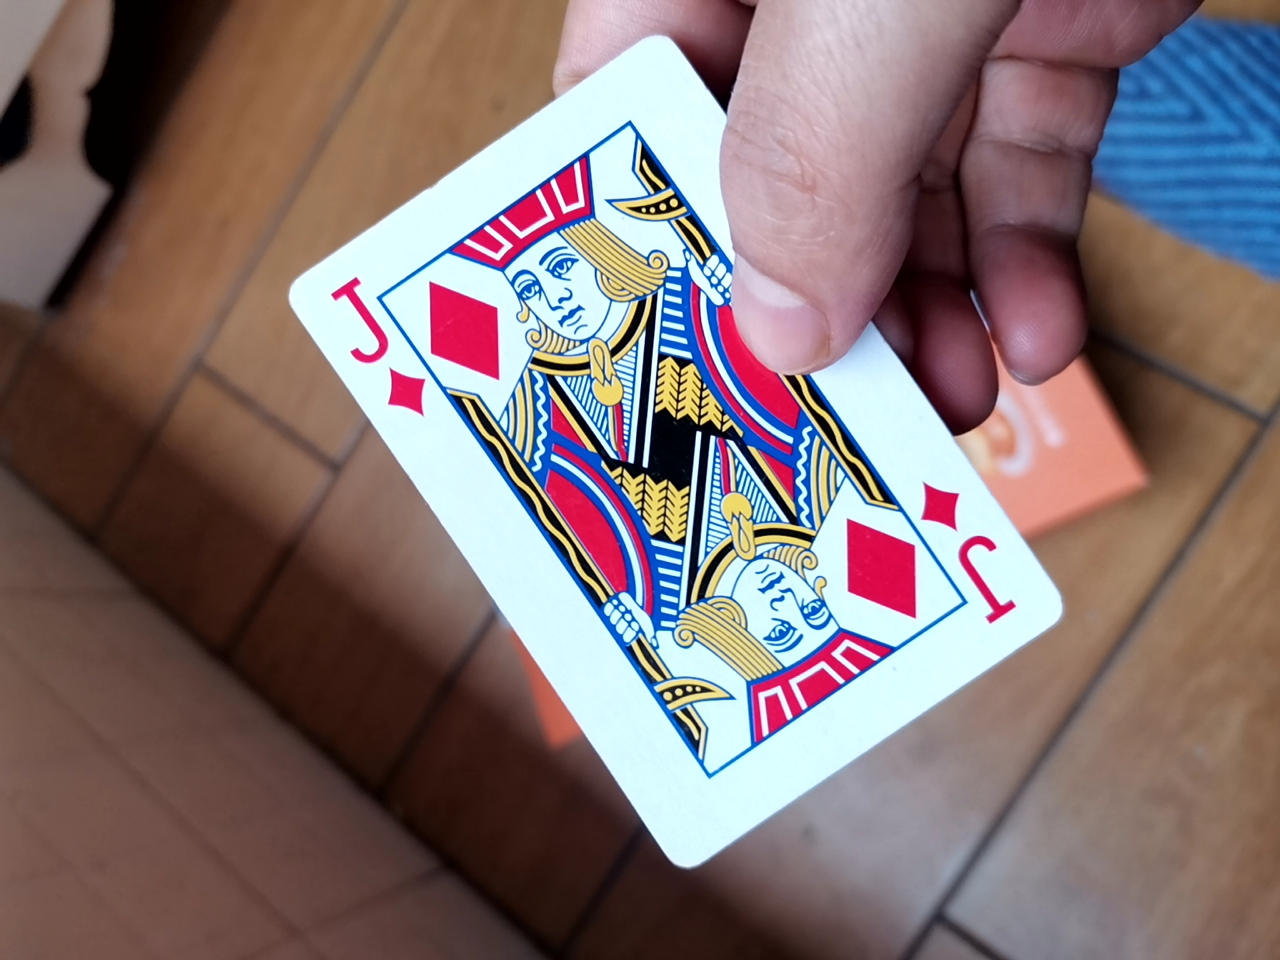fk j: (254, 42, 1051, 889)
